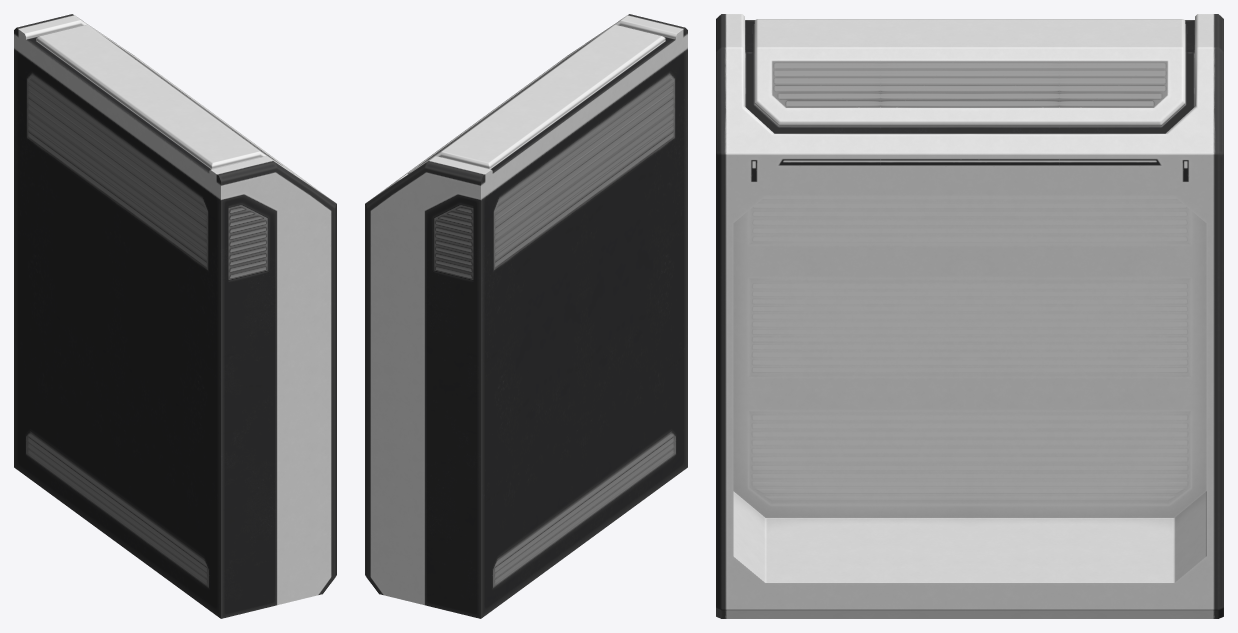
Rendered from SM_LabFridge01_2_Base.FBX.
The picture shows the model from 3 angles, left to right: view 1: azimuth 30°, elevation 25°; view 2: azimuth 150°, elevation 25°; view 3: azimuth 270°, elevation 25°; orthographic projection. The views are drawn at different scales.
Visible parts, largest first — view 1: SM_LabFridge01_2_Base; view 2: SM_LabFridge01_2_Base; view 3: SM_LabFridge01_2_Base.
Part boxes in pixels (x1,y1,x2,y2): SM_LabFridge01_2_Base: [14, 14, 336, 618]; SM_LabFridge01_2_Base: [365, 14, 687, 618]; SM_LabFridge01_2_Base: [716, 14, 1223, 618].
Size of what is drawn, in the model's own units: 55.96 by 170 by 200.
